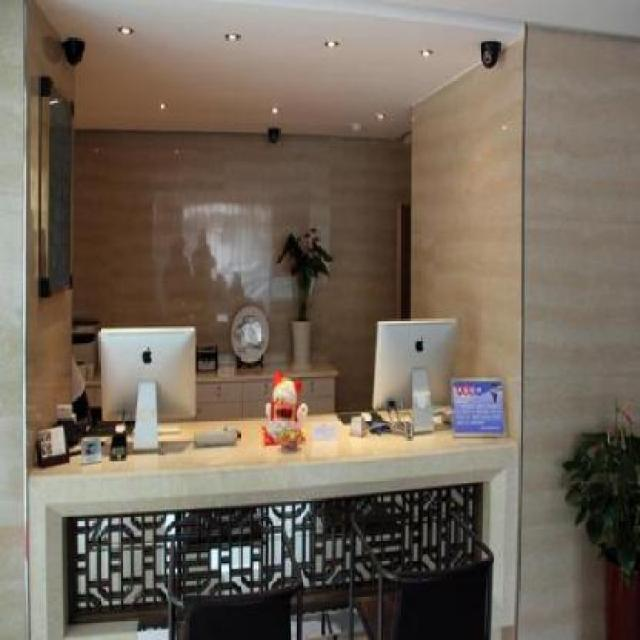frontdesk: (23, 382, 535, 639)
